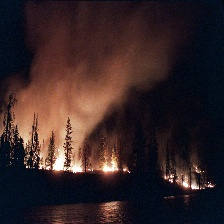fire: (48, 156, 119, 173), (165, 171, 215, 191)
smoke: (6, 29, 161, 128)
